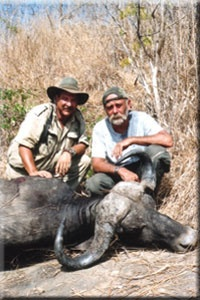buffalo: (1, 149, 199, 268)
